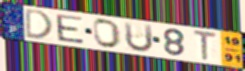8: (163, 27, 187, 57)
D: (24, 7, 54, 40)
E: (54, 13, 86, 45)
O: (92, 18, 123, 50)
T: (193, 29, 219, 62)
U: (123, 20, 155, 54)
